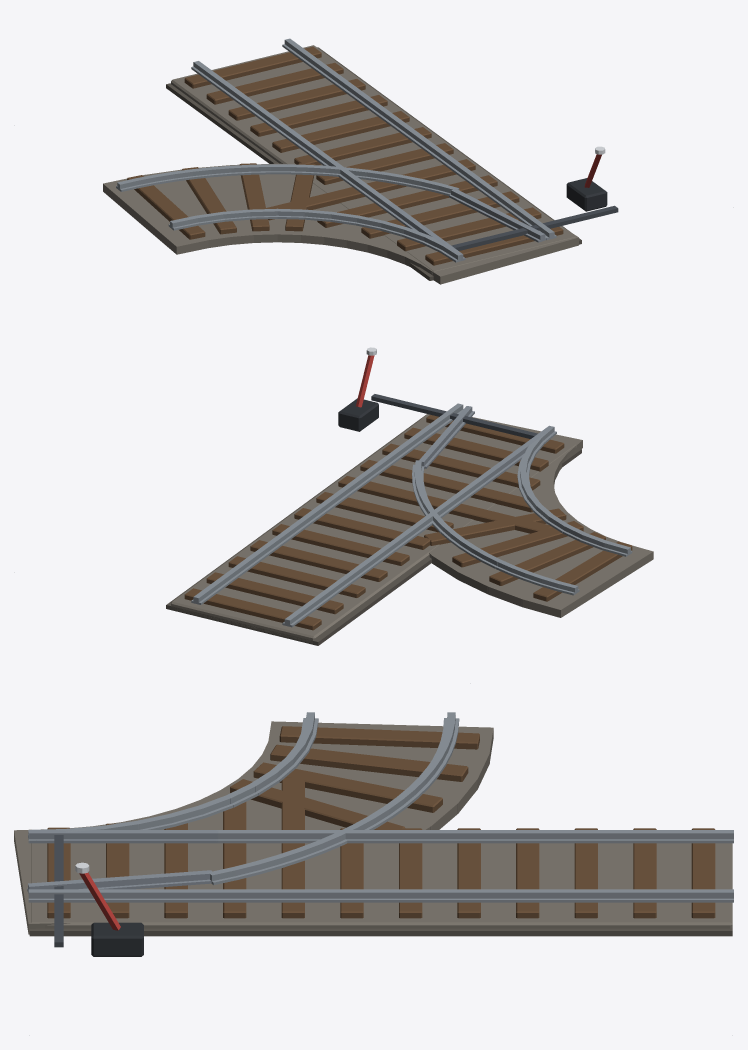
Rendered from rail_aiguillage_g_droit.glb.
3 renders of one model, top to bottom at view 1: azimuth 30°, elevation 25°; view 2: azimuth 150°, elevation 25°; view 3: azimuth 270°, elevation 25°, orthographic. The views are drawn at different scales.
Parts seen in each view (by area): view 1: rail_ballast.016, rail_traverse.018, rail_rail.018, rail_acier.008, rail_ballast_sombre.010, rail_acier_sombre.008, rail_fonte.008; view 2: rail_ballast.016, rail_traverse.018, rail_rail.018, rail_ballast_sombre.010, rail_acier.008, rail_acier_sombre.008, rail_fonte.008; view 3: rail_ballast.016, rail_traverse.018, rail_rail.018, rail_ballast_sombre.010, rail_acier.008, rail_fonte.008, rail_acier_sombre.008, rail_rouge.008.
Boxes of the visible parts, x1,y1,x2,y2 form: rail_ballast.016: [103, 45, 578, 284]; rail_traverse.018: [127, 46, 563, 265]; rail_rail.018: [116, 38, 556, 262]; rail_acier.008: [384, 188, 546, 261]; rail_ballast_sombre.010: [166, 47, 581, 280]; rail_acier_sombre.008: [451, 205, 618, 250]; rail_fonte.008: [566, 178, 607, 211]; rail_ballast.016: [171, 414, 653, 642]; rail_traverse.018: [184, 415, 632, 630]; rail_rail.018: [191, 403, 632, 627]; rail_ballast_sombre.010: [166, 414, 581, 645]; rail_acier.008: [419, 406, 556, 485]; rail_acier_sombre.008: [371, 394, 537, 438]; rail_fonte.008: [338, 398, 378, 431]; rail_ballast.016: [14, 721, 732, 934]; rail_traverse.018: [47, 726, 715, 918]; rail_rail.018: [28, 712, 733, 902]; rail_ballast_sombre.010: [29, 928, 732, 936]; rail_acier.008: [27, 830, 218, 893]; rail_fonte.008: [91, 922, 143, 956]; rail_acier_sombre.008: [54, 835, 63, 947]; rail_rouge.008: [79, 872, 120, 930].
Bounding box in the file's own units: 3.07 × 0.452 × 3.07.
